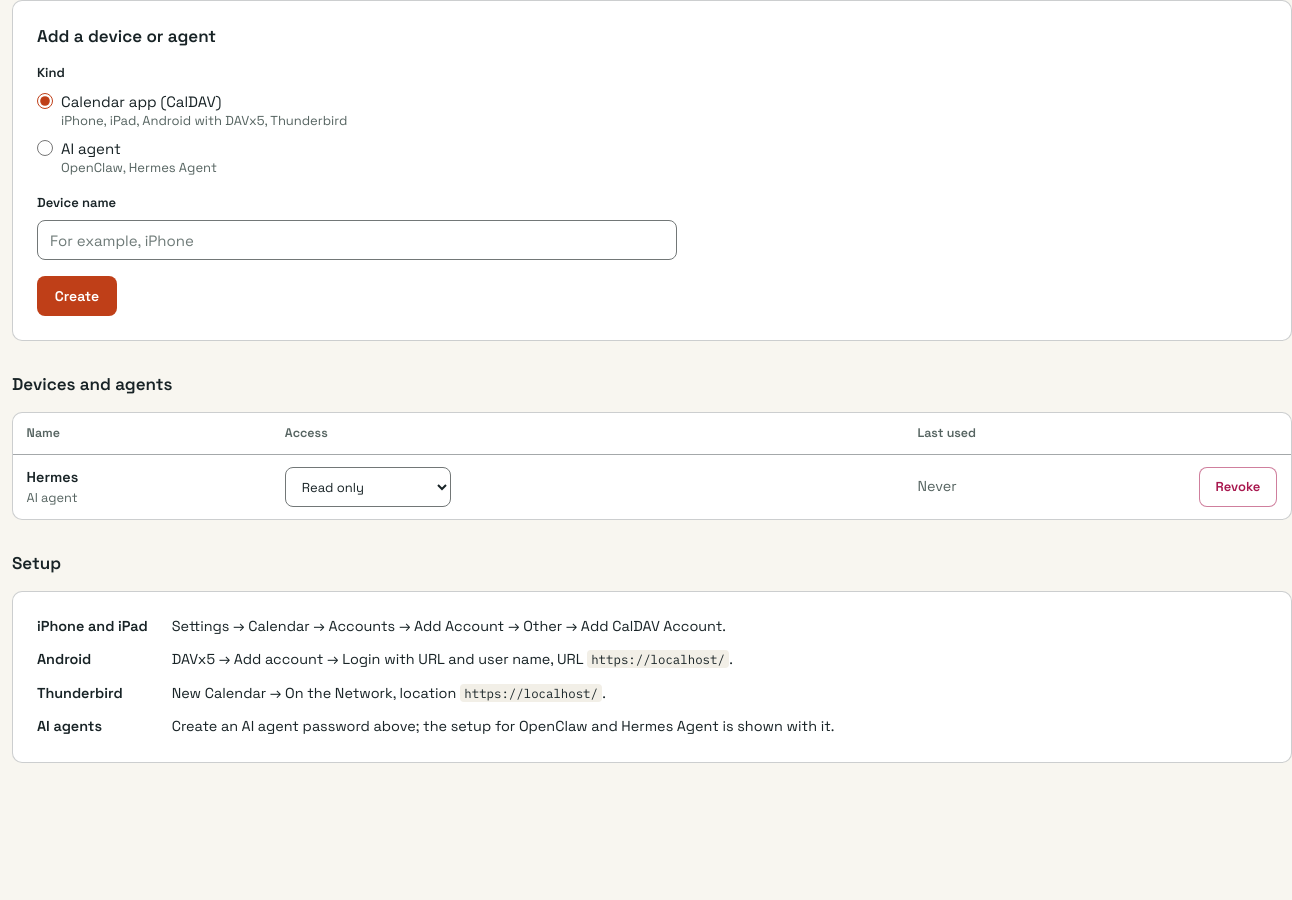
Test: AppPasswords › asks for a fresh sign-in when changing an agent's access needs step-up
Select "Edit its own events" in the dropdown named "access for hermes" at (368, 487), box [285,467,451,507]
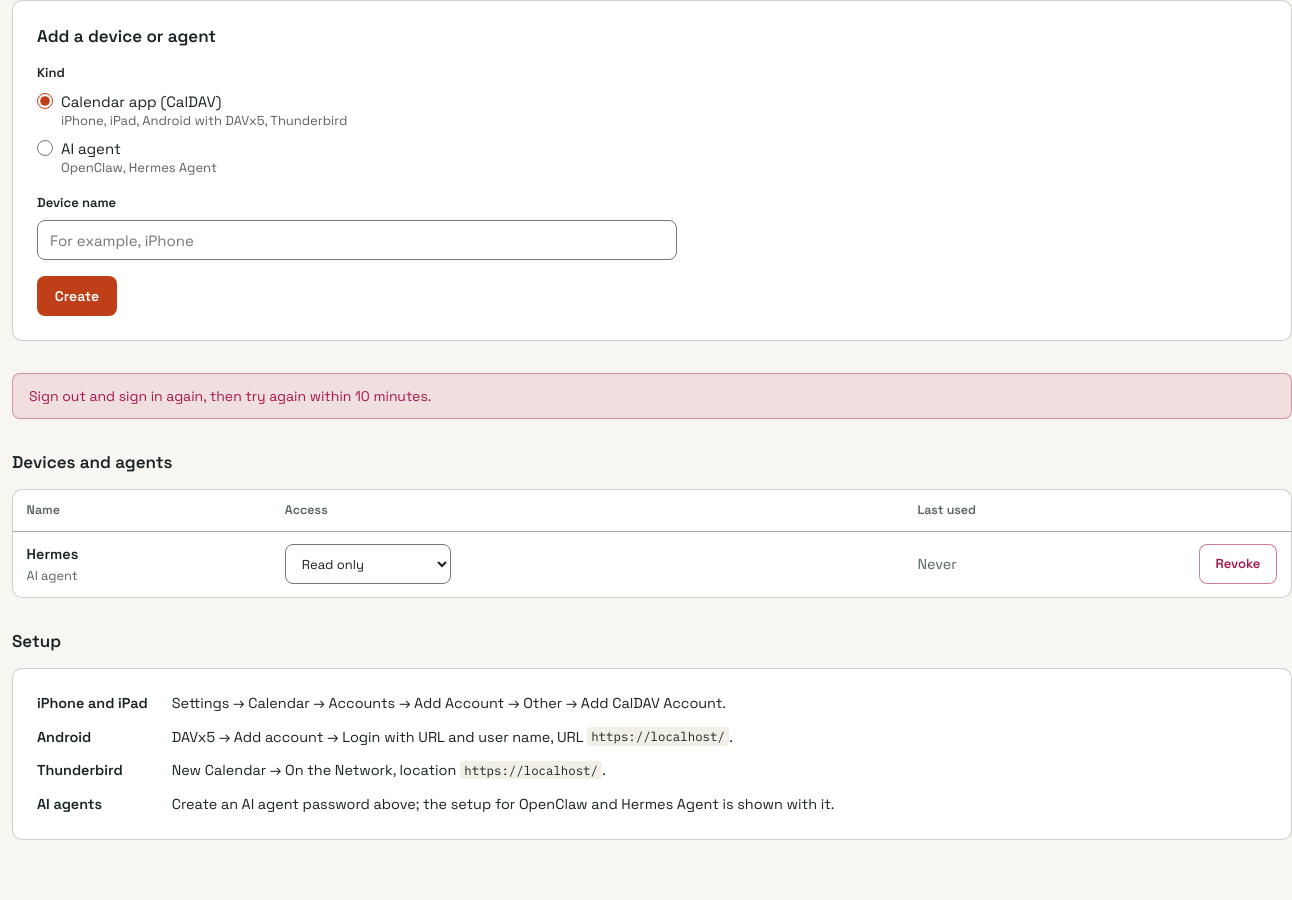
Now the text "Sign out and sign in again, then try again within 10 minutes." is shown, box [12,374,1291,419]
